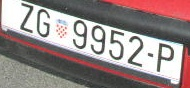2: (125, 33, 143, 68)
5: (109, 28, 123, 61)
9: (69, 15, 87, 48), (89, 23, 105, 55)
G: (34, 6, 49, 39)
P: (153, 40, 174, 74)
Z: (19, 1, 34, 34)
